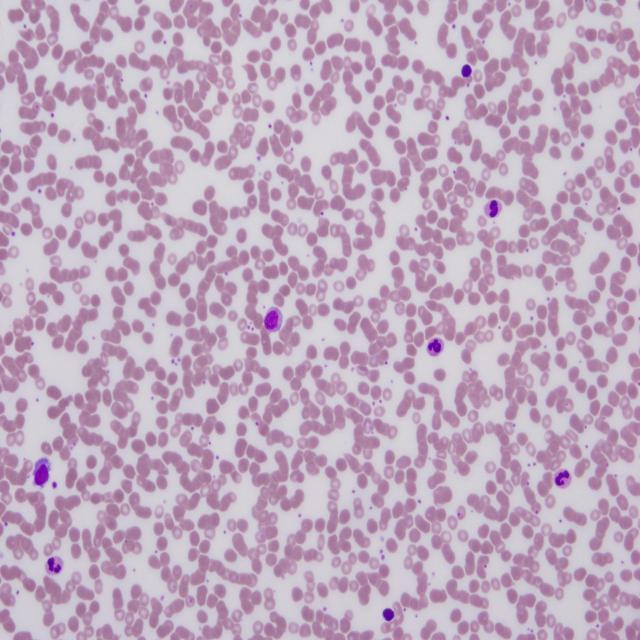cell: (554, 470, 571, 488), (428, 338, 444, 357), (46, 556, 62, 574)
